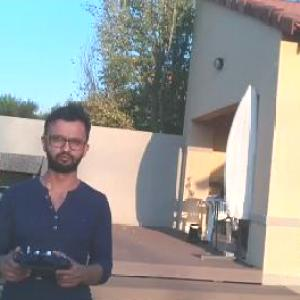follow: (0, 99, 122, 299)
